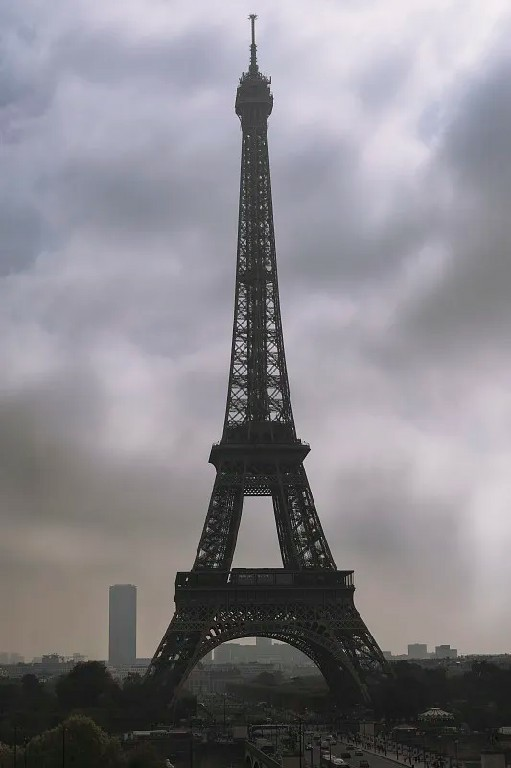Eiffel: (140, 13, 406, 724)
